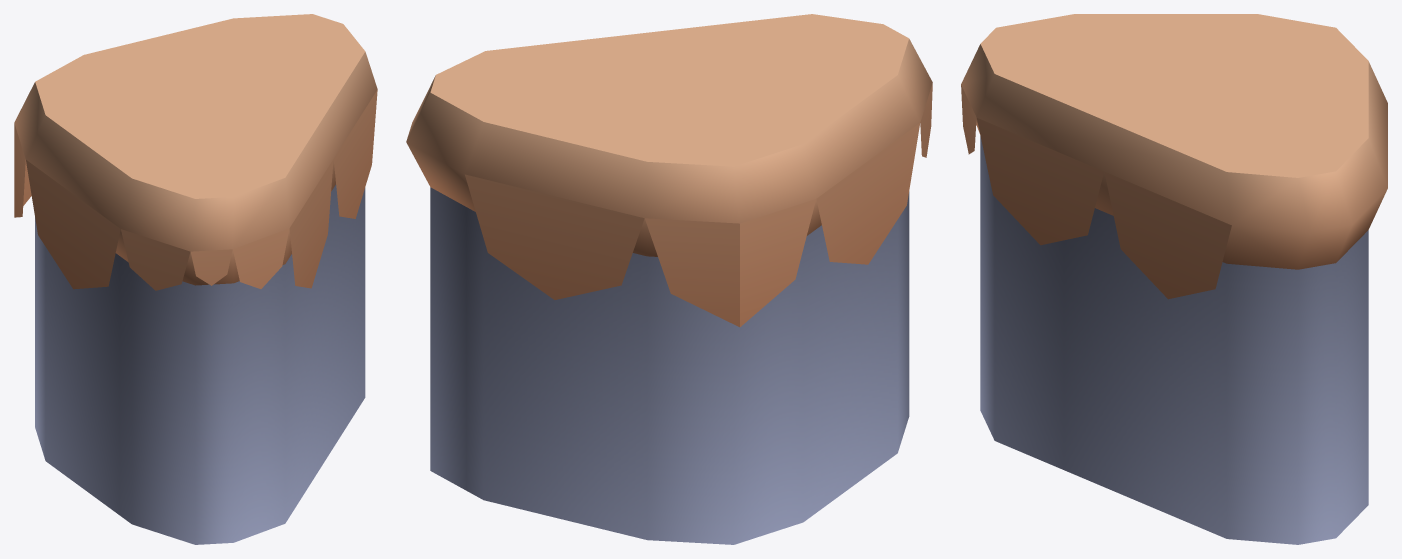
The model's file is block-grass-corner-overhang.glb.
3 renders of one model, left to right at view 1: azimuth 30°, elevation 25°; view 2: azimuth 150°, elevation 25°; view 3: azimuth 270°, elevation 25°, orthographic. The views are drawn at different scales.
Parts seen in each view (by area): view 1: block-grass-corner-overhang; view 2: block-grass-corner-overhang; view 3: block-grass-corner-overhang.
Boxes of the visible parts, x1,y1,x2,y2 form: block-grass-corner-overhang: [14, 14, 377, 544]; block-grass-corner-overhang: [406, 14, 932, 544]; block-grass-corner-overhang: [961, 14, 1387, 544].
Size of the model in its own units: 1.05 by 1 by 1.05.
